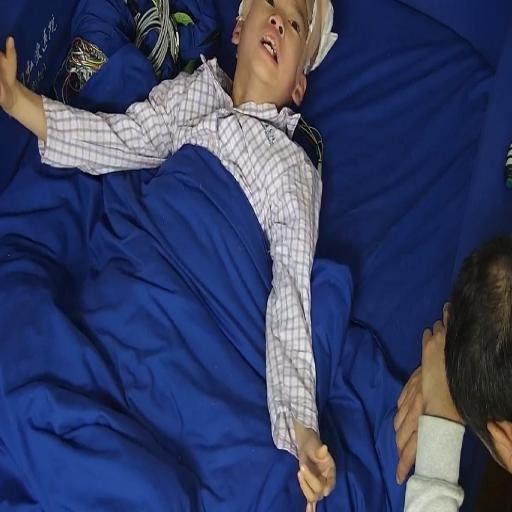Seizure: (238, 0, 319, 110)
